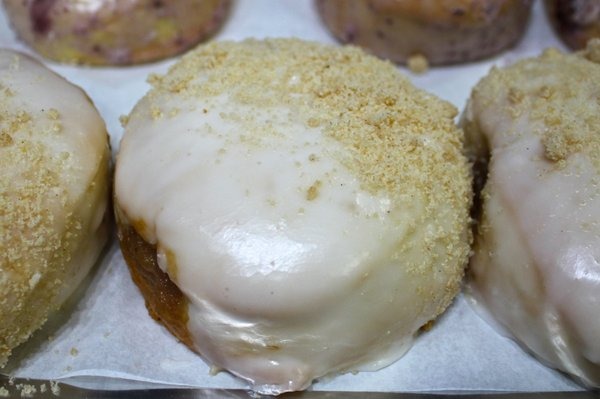salad: (103, 38, 475, 388), (0, 47, 113, 377), (315, 2, 531, 72)
sandwich: (0, 1, 231, 68)
sushi: (110, 36, 475, 383)
